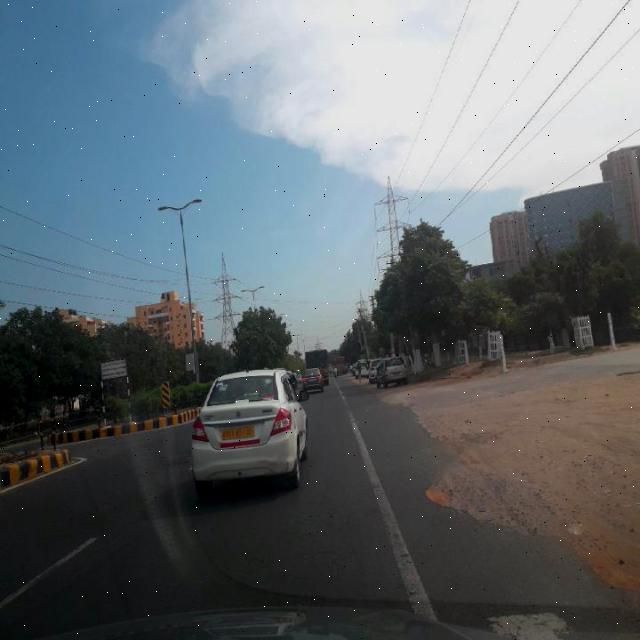D20: (208, 476, 417, 604)
D40: (408, 446, 540, 532)
D44: (2, 527, 101, 638)
